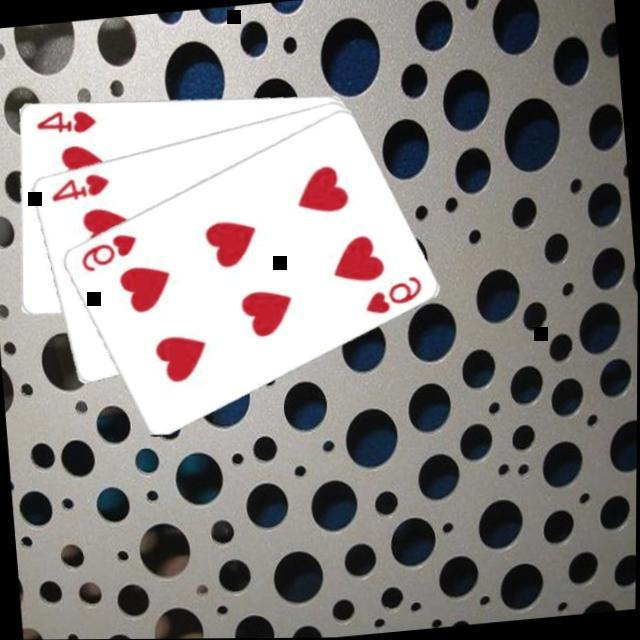4H: (32, 101, 100, 137), (48, 166, 114, 202)
6H: (360, 270, 428, 316), (76, 227, 142, 273)
